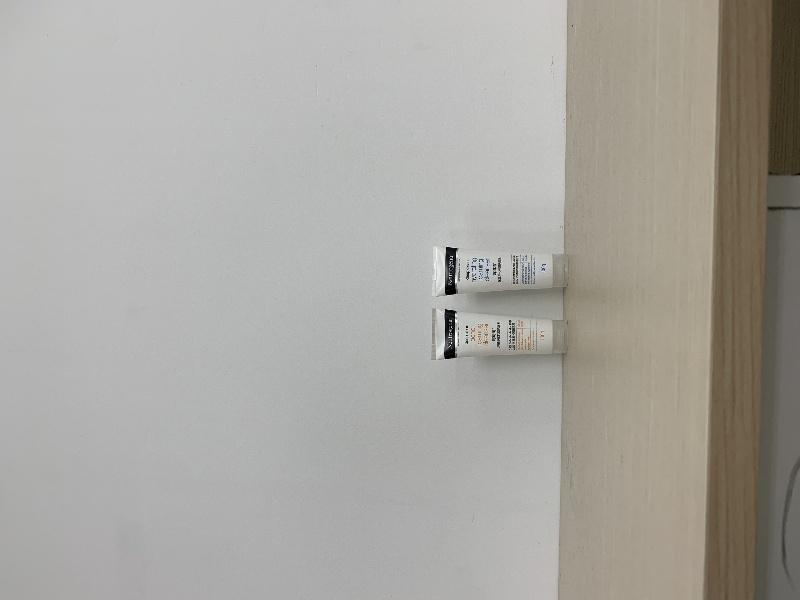AcneFoamingCleanser: (431, 307, 569, 361)
HydratingFoamingCleanser: (432, 246, 569, 297)
